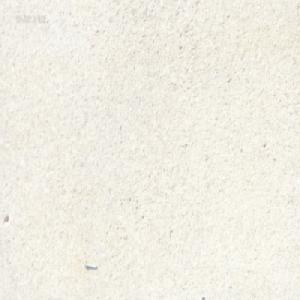Nail: (83, 260, 98, 269)
